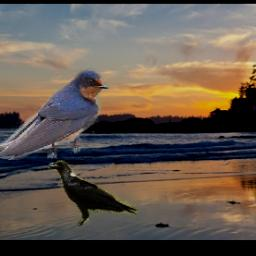Crow: (47, 161, 138, 228)
Swallow: (0, 67, 110, 160)
